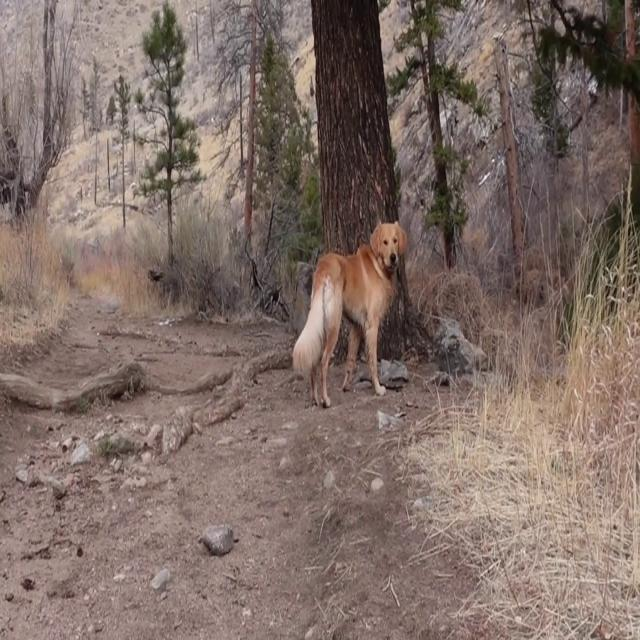Dog: (292, 220, 406, 407)
